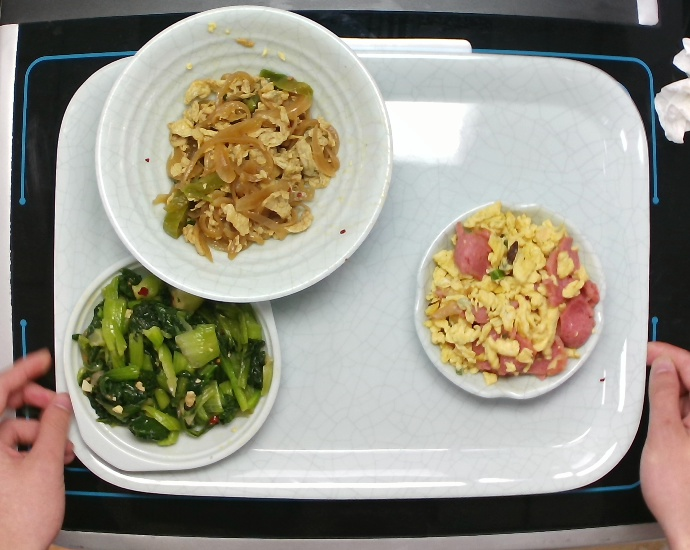JYsf-Ao_Yuan_Wan: (409, 196, 612, 407)
JYsf-Shuang_Er_Pan: (60, 250, 284, 475)
JYsf-Xiao_Tang_Wan: (90, 1, 396, 310)
